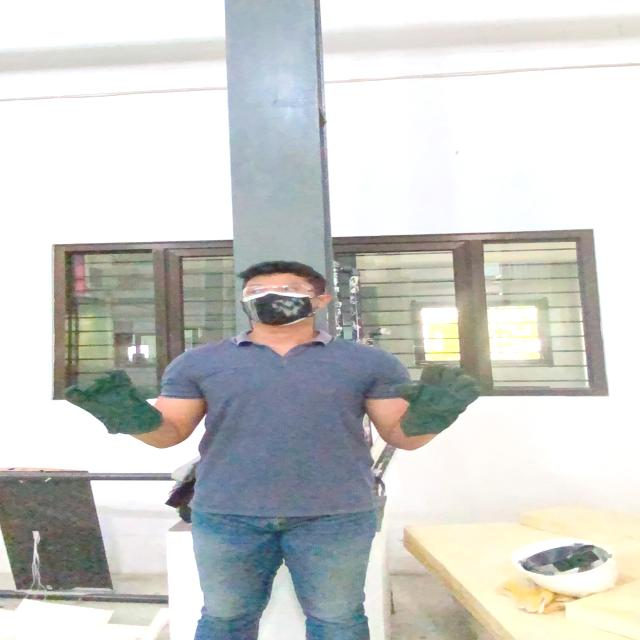face_mask: (236, 278, 323, 325)
glasses: (240, 282, 327, 299)
hand_glove: (58, 364, 165, 432), (393, 360, 485, 420)
head_nohelmet: (233, 258, 323, 286)
person: (120, 254, 421, 640)
